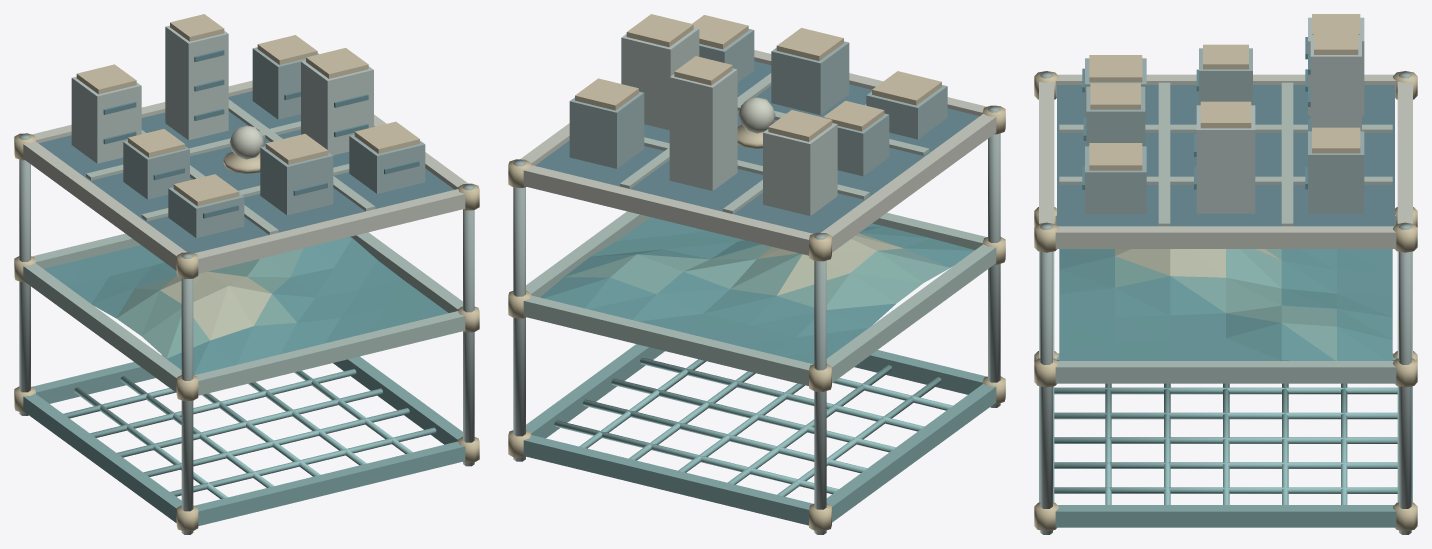
The model's file is ART-66.glb.
The picture shows the model from 3 angles, left to right: view 1: azimuth 30°, elevation 25°; view 2: azimuth 150°, elevation 25°; view 3: azimuth 270°, elevation 25°; orthographic projection. The views are drawn at different scales.
Visible parts, largest first — view 1: world; view 2: world; view 3: world.
Part boxes in pixels (bbox=[...]): world: bbox=[14, 14, 479, 534]; world: bbox=[508, 14, 1005, 534]; world: bbox=[1034, 14, 1417, 534].
Bounding box in the file's own units: 1.67 × 2 × 1.67.
